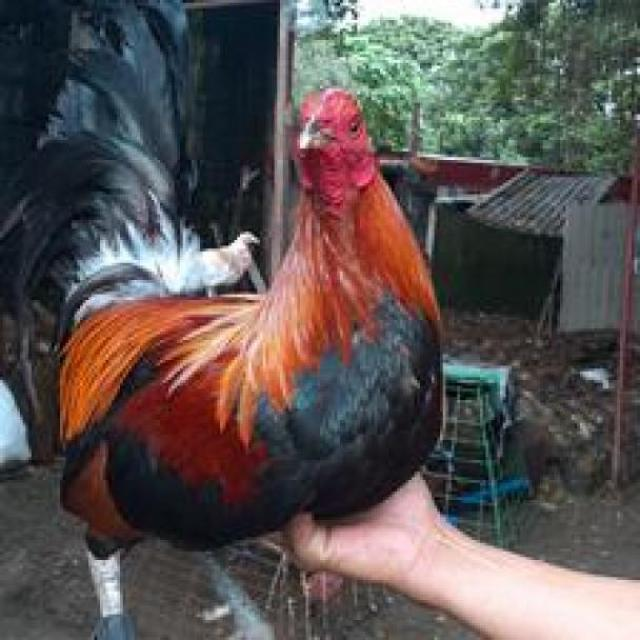Chicken: (13, 31, 440, 640)
